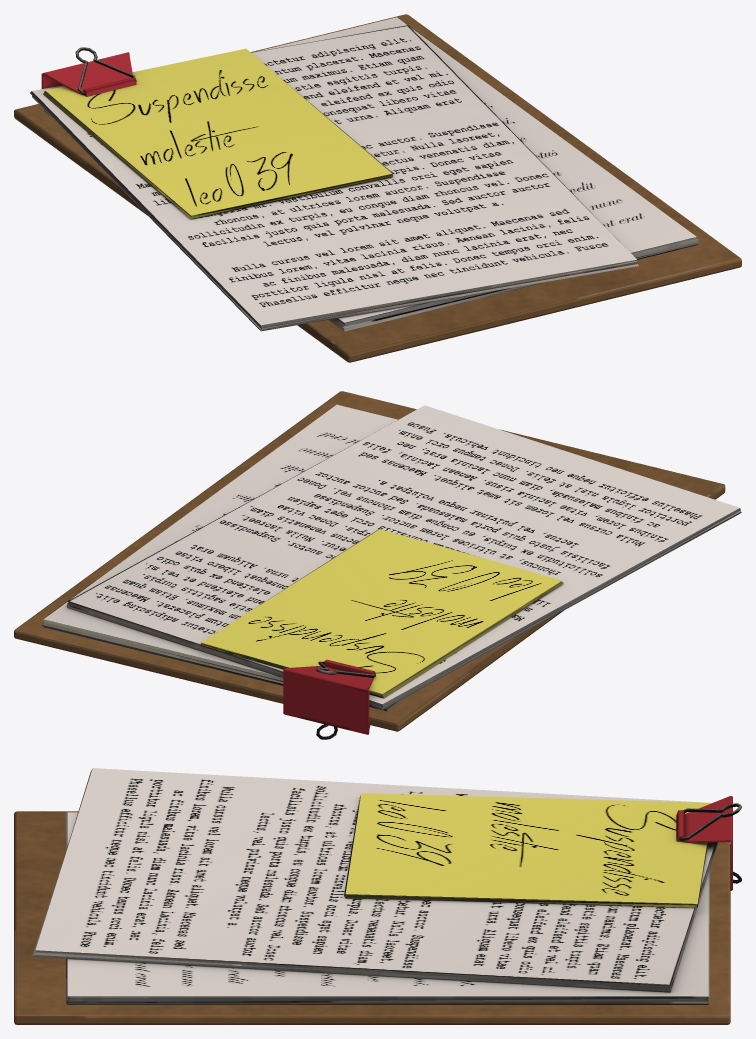
Rendered from clipboard.fbx.
3 renders of one model, top to bottom at view 1: azimuth 30°, elevation 25°; view 2: azimuth 150°, elevation 25°; view 3: azimuth 270°, elevation 25°, orthographic. The views are drawn at different scales.
Parts seen in each view (by area): view 1: portapapeles_Baked; view 2: portapapeles_Baked; view 3: portapapeles_Baked.
Part boxes in pixels (x1=…): portapapeles_Baked: x1=14, y1=14, x2=741, y2=362; portapapeles_Baked: x1=14, y1=391, x2=741, y2=739; portapapeles_Baked: x1=14, y1=768, x2=741, y2=1024.
Bounding box in the file's own units: 27.81 × 4.23 × 36.77.
Materials: 1 (1 with a texture image).
